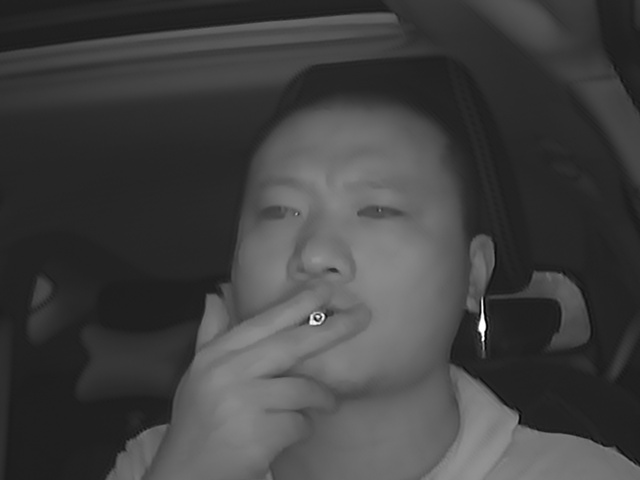hand: (222, 281, 371, 444)
